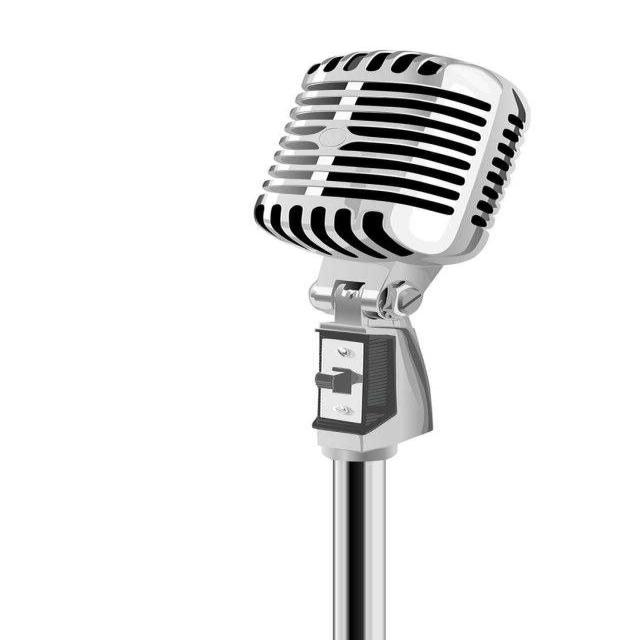microphone: (240, 45, 537, 310)
